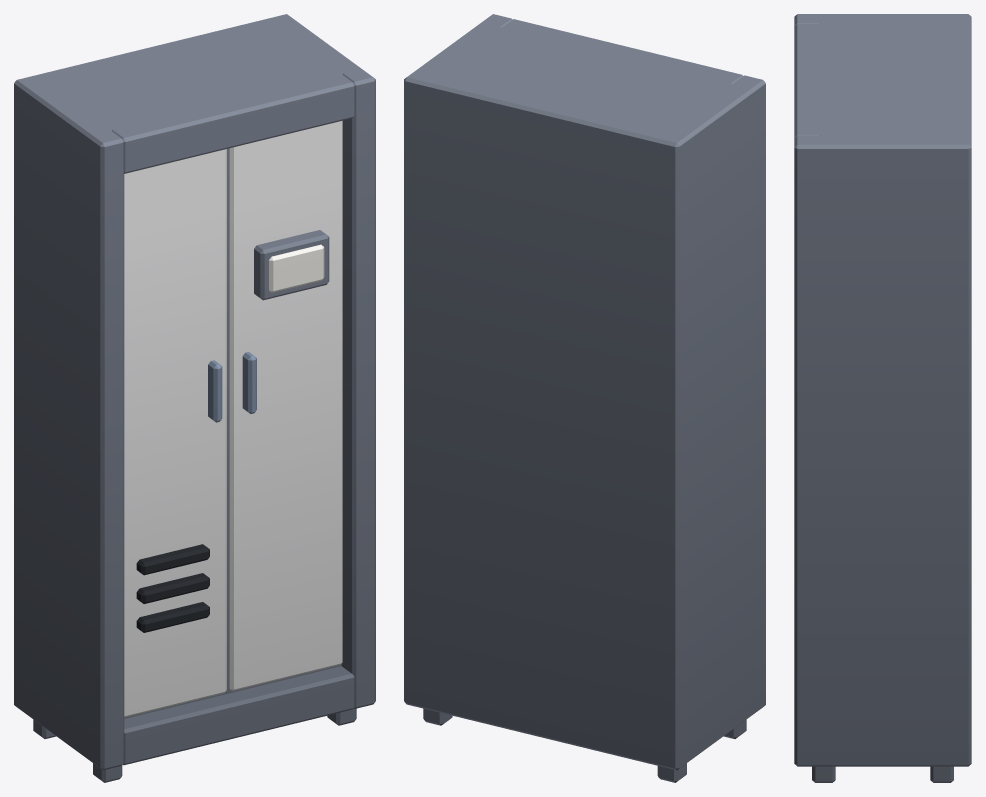
The model's file is storage_cabinet.glb.
3 views of the same model, side by side, from view 1: azimuth 30°, elevation 25°; view 2: azimuth 150°, elevation 25°; view 3: azimuth 270°, elevation 25° (orthographic).
Visible parts, largest first — view 1: storage_cabinet-convcol; view 2: storage_cabinet-convcol; view 3: storage_cabinet-convcol.
Part boxes in pixels (<box>): storage_cabinet-convcol: <box>14,14,375,782</box>; storage_cabinet-convcol: <box>404,14,765,782</box>; storage_cabinet-convcol: <box>794,14,971,782</box>.
Bounding box in the file's own units: 0.8 × 1.8 × 0.45.
Materials: 1 (1 with a texture image).
